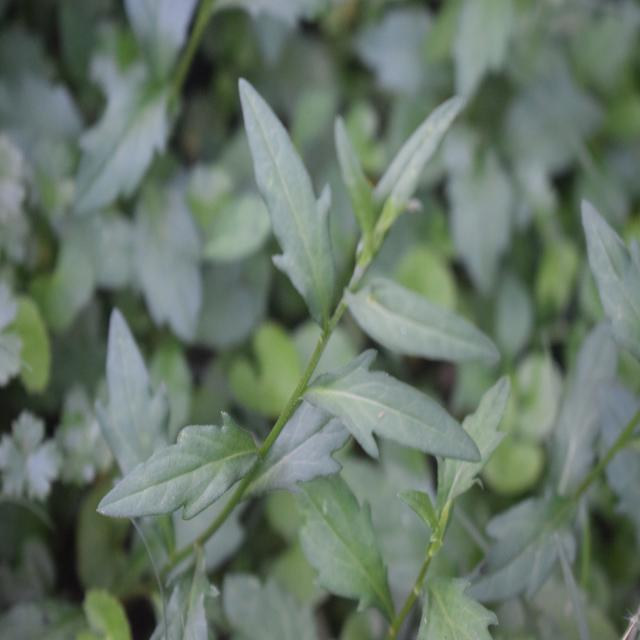Indian aster: (128, 111, 518, 598)
